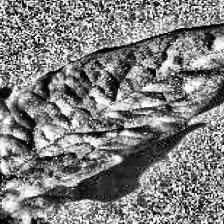leaf mold: (0, 16, 224, 224)
